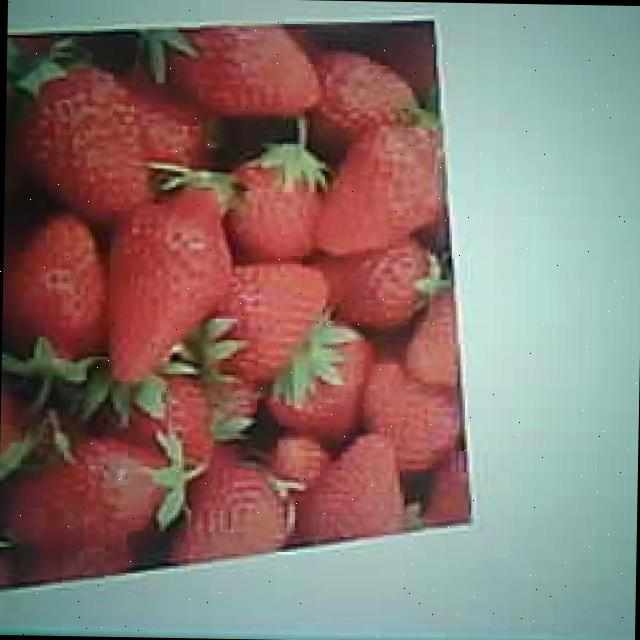strawberry: (96, 184, 234, 383), (15, 70, 150, 222), (312, 118, 448, 256)
